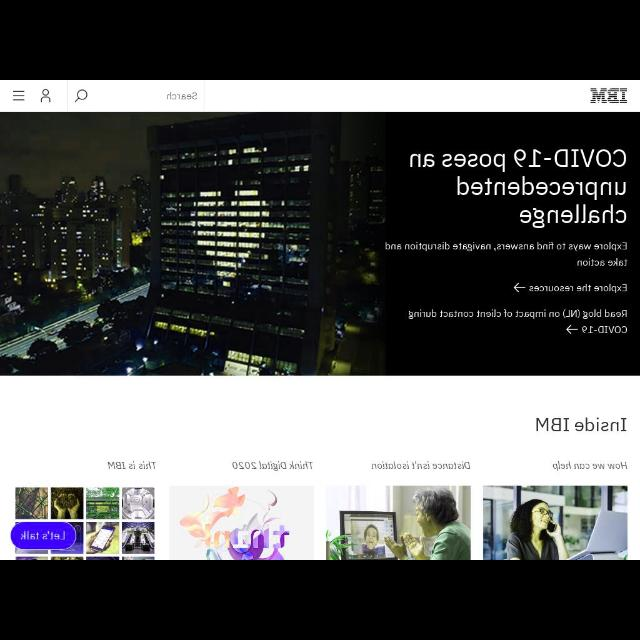icon: (74, 89, 88, 103), (40, 88, 52, 102), (13, 90, 25, 102), (513, 282, 525, 292), (566, 326, 578, 334)
image: (484, 485, 626, 559), (327, 487, 471, 559), (172, 486, 312, 560), (16, 487, 154, 559), (588, 87, 628, 105)
input: (68, 80, 204, 110)
text: (409, 148, 627, 228), (384, 242, 628, 268), (407, 309, 627, 335), (534, 415, 628, 435), (370, 458, 472, 472), (552, 461, 628, 474), (530, 284, 628, 294), (231, 462, 313, 471), (19, 529, 66, 543), (106, 458, 158, 470), (166, 90, 198, 102)
textbutton: (11, 522, 77, 548)
toolbar: (1, 80, 639, 112)
